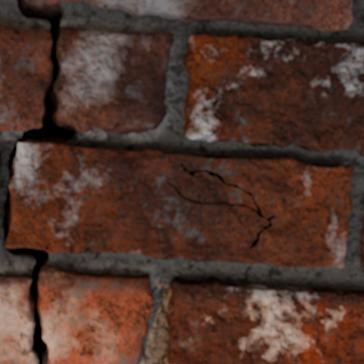brick: (6, 141, 353, 268), (184, 34, 363, 152), (163, 277, 363, 363), (38, 0, 352, 30), (360, 221, 363, 269)
broken_brick: (56, 26, 174, 134), (40, 265, 154, 363), (0, 24, 50, 132), (0, 274, 36, 363)
crack: (1, 0, 78, 363)
